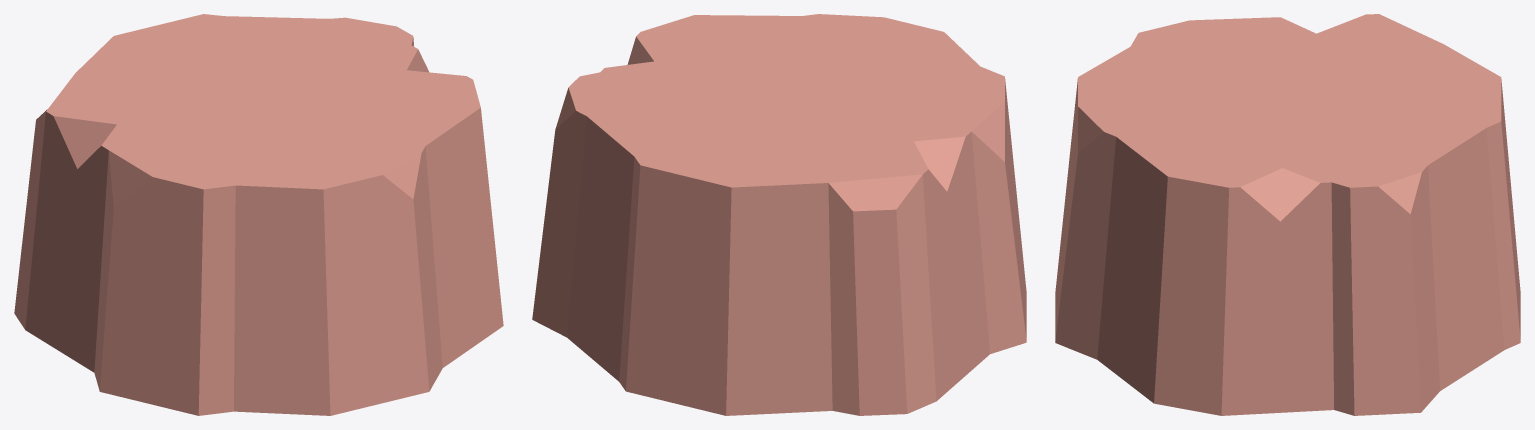
File: SuperGrid_Hexagon_013_Vlad.fbx
3 views of the same model, side by side, from view 1: azimuth 30°, elevation 25°; view 2: azimuth 150°, elevation 25°; view 3: azimuth 270°, elevation 25° (orthographic).
Visible parts, largest first — view 1: SuperGrid_Hexagon.013; view 2: SuperGrid_Hexagon.013; view 3: SuperGrid_Hexagon.013.
Boxes of the visible parts, x1,y1,x2,y2 form: SuperGrid_Hexagon.013: [14, 14, 503, 415]; SuperGrid_Hexagon.013: [532, 14, 1026, 415]; SuperGrid_Hexagon.013: [1055, 14, 1520, 415].
Size of the model in its own units: 19053 by 10000 by 19250.
